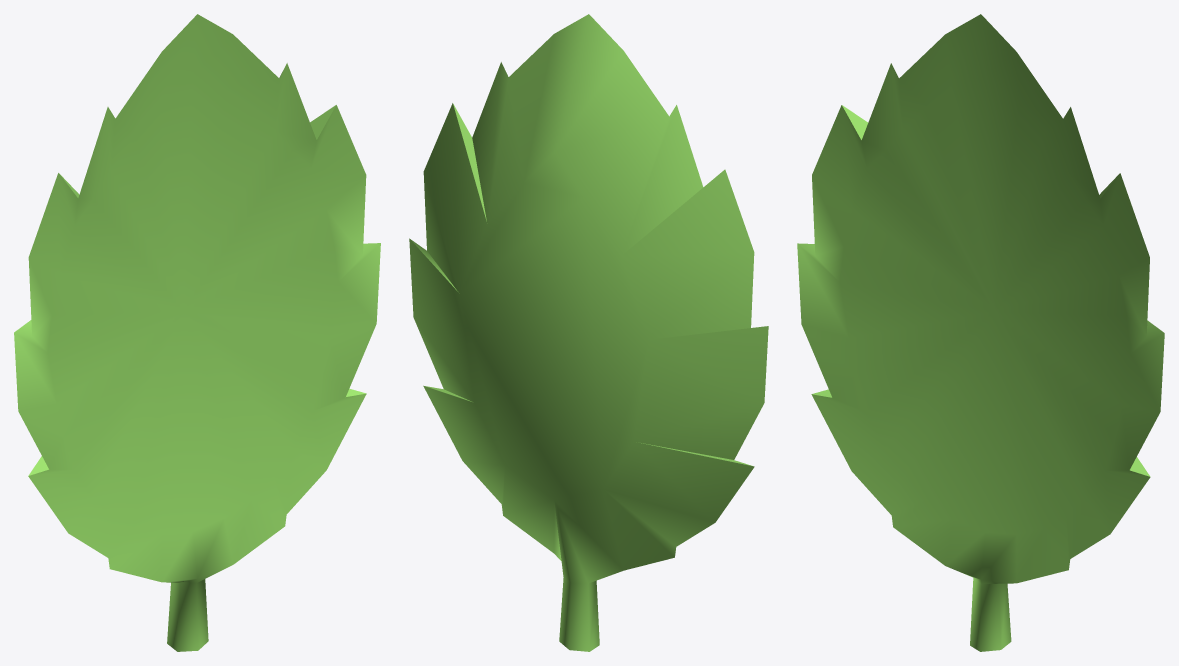
File: Mint.gltf
The picture shows the model from 3 angles, left to right: view 1: azimuth 30°, elevation 25°; view 2: azimuth 150°, elevation 25°; view 3: azimuth 330°, elevation 25°; orthographic projection. The views are drawn at different scales.
Parts seen in each view (by area): view 1: Mint; view 2: Mint; view 3: Mint.
Part boxes in pixels (x1,y1,x2,y2): Mint: (14, 14, 380, 651); Mint: (409, 14, 768, 651); Mint: (797, 14, 1164, 651).
Size of the model in its own units: 0.4459 by 0.7402 by 0.0764.
